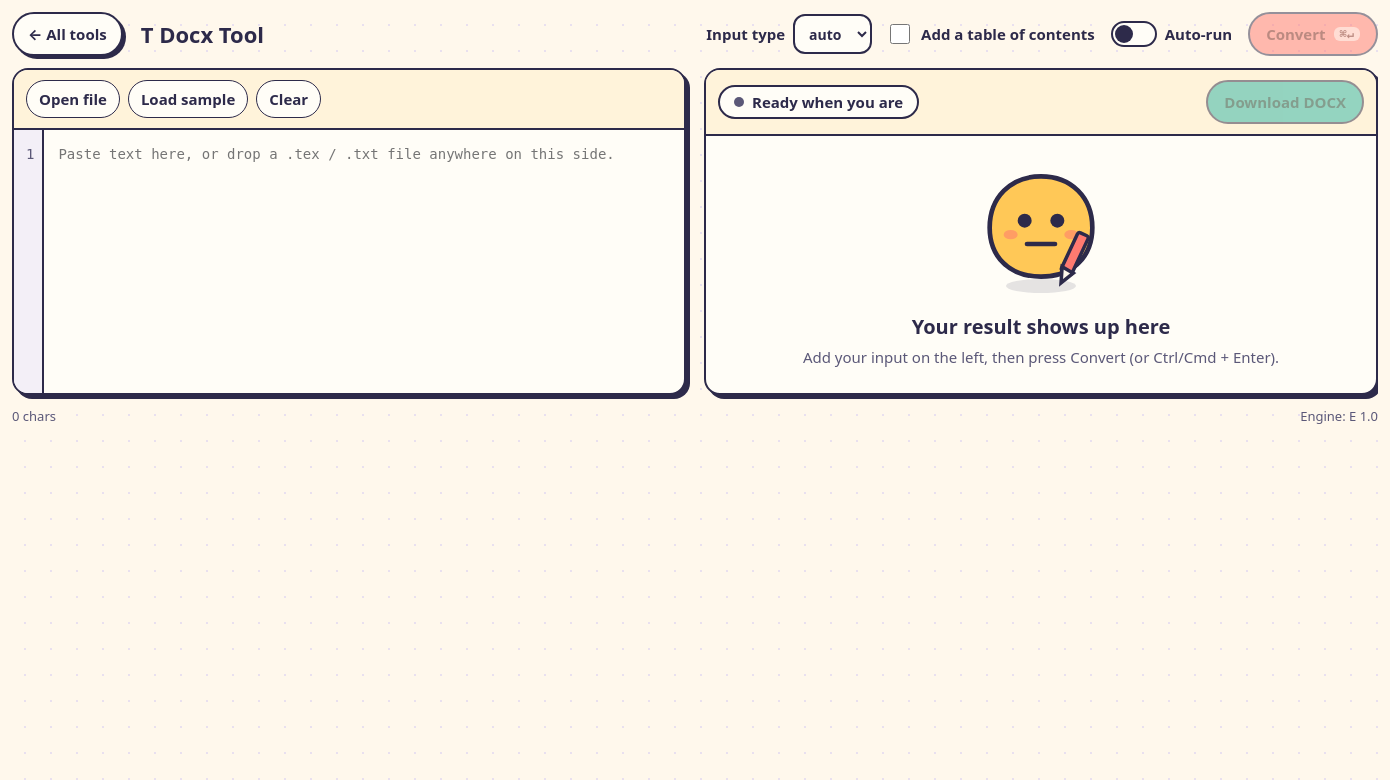
it: running a text tool › falls back to a ready card when the preview itself fails
Replace the text in the text box named "Input text" with "x" at point(364, 261), box [44,130,684,392]
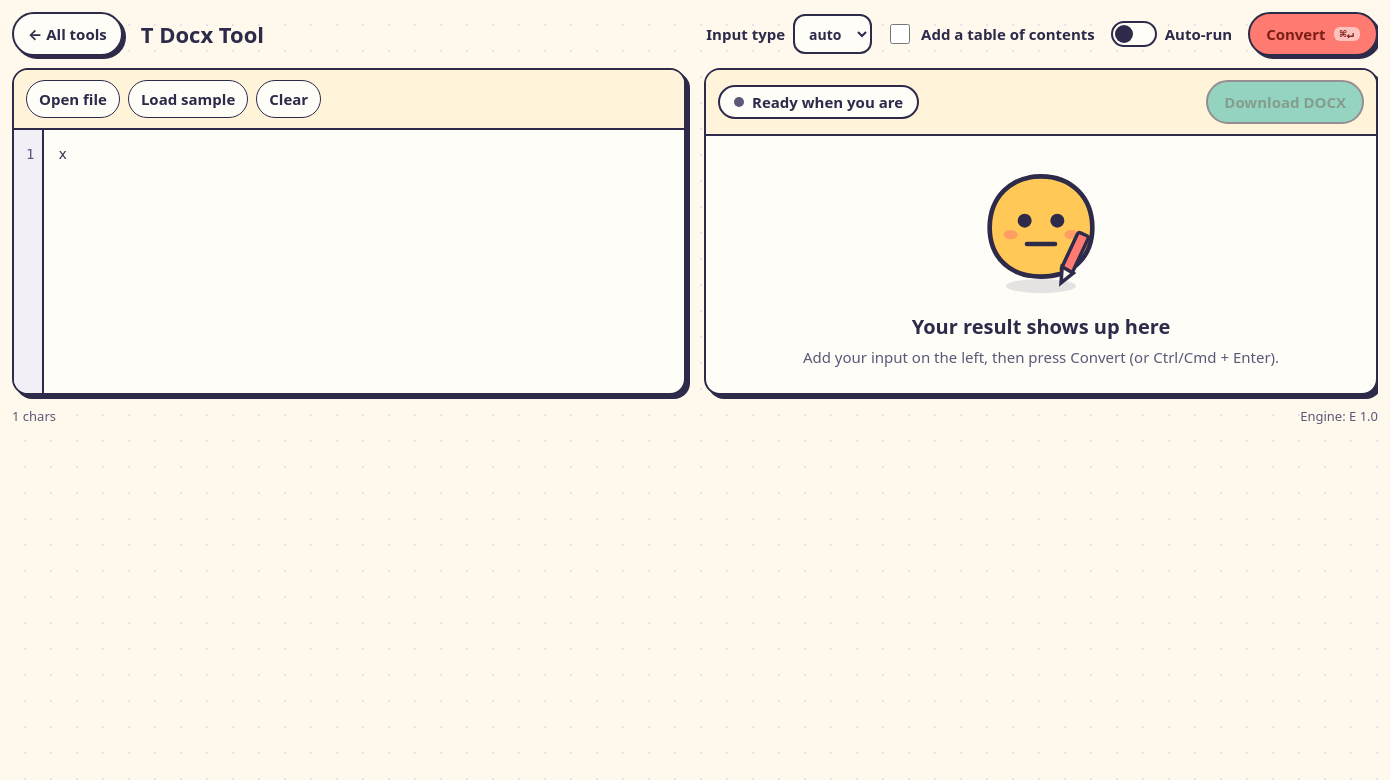
Click the button "Convert ⌘↵".
click(1313, 34)  # box [1248,12,1378,56]
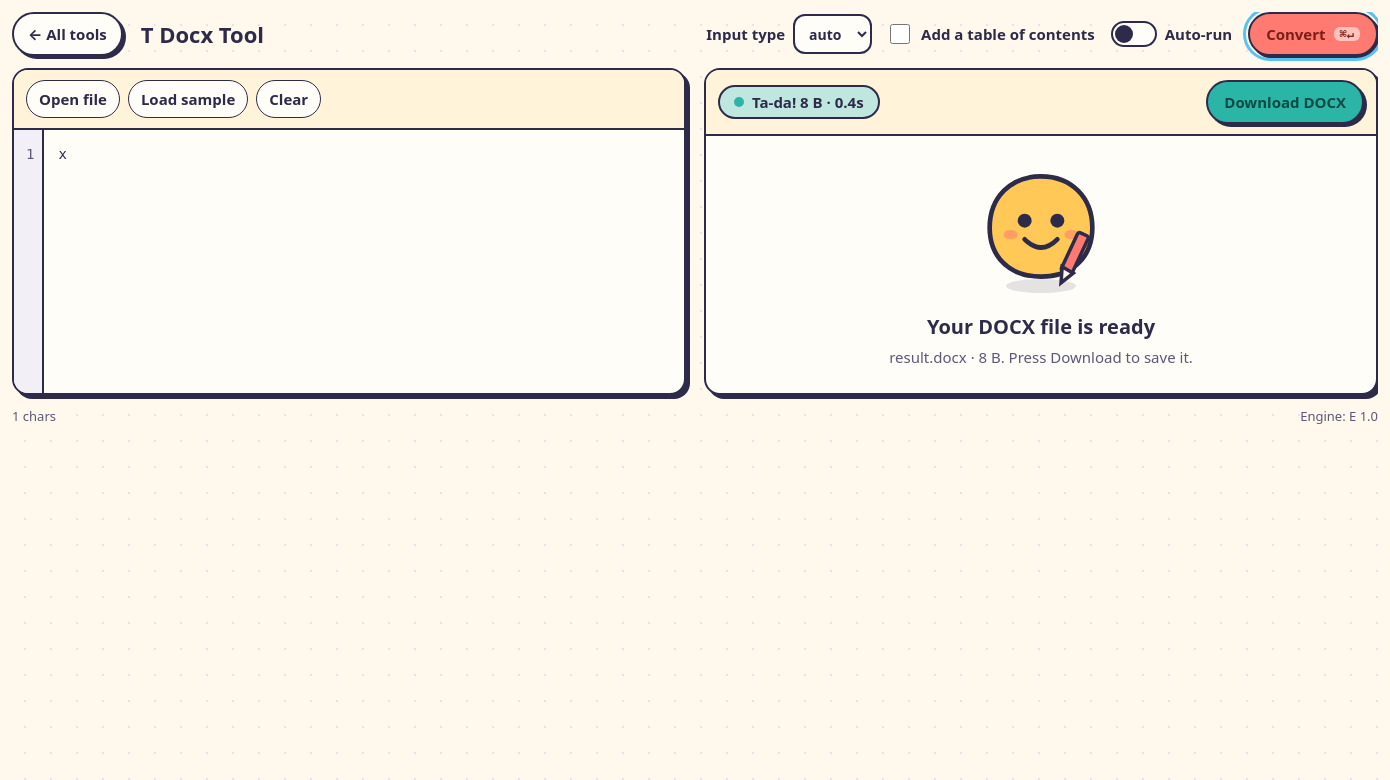
Now the text "Your DOCX file is ready" is shown, box [927,312,1155,342]
